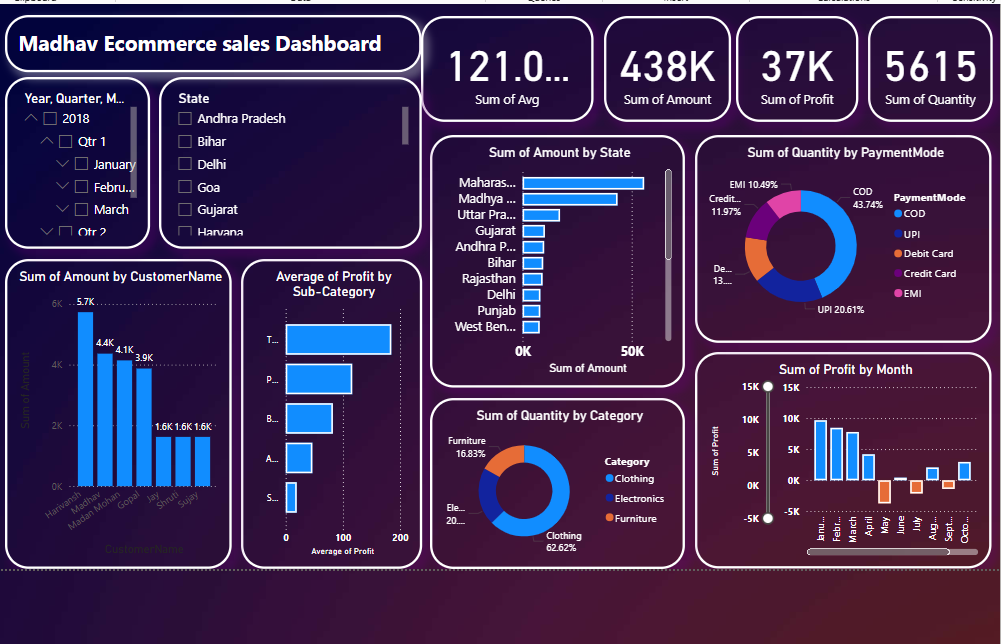

The page's visual inventory and layout, read from the dashboard file:
{"tool":"powerbi","page":{"name":"Page 1","canvas":[1280,720],"ordinal":0},"visuals":[{"type":"textbox","title":"  ","box":[11.4,14.6,531.2,73.1],"z":0},{"type":"clusteredColumnChart","fields":{"Category":["Orders.Order Date.Variation.Date Hierarchy.Month"],"Y":["Details.Profit"]},"box":[891.8,443.5,378.5,276.1],"z":1000},{"type":"clusteredBarChart","fields":{"Category":["Details.Sub-Category"],"Y":["Details.Profit"]},"box":[311.9,324.9,230.7,394.7],"z":2000},{"type":"donutChart","fields":{"Category":["Details.Category"],"Y":["Details.Quantity"]},"box":[553.9,501.9,324.9,217.7],"z":3000},{"type":"donutChart","fields":{"Y":["Details.Quantity"],"Category":["Details.PaymentMode"]},"box":[891.8,167.3,378.5,264.8],"z":4000},{"type":"columnChart","fields":{"Category":["Orders.CustomerName"],"Y":["Details.Amount"]},"box":[11.4,324.9,289.1,394.7],"z":5000},{"type":"card","fields":{"Values":["Details.Amount"]},"box":[774.7,15.3,162.3,134.7],"z":6000},{"type":"card","fields":{"Values":["Details.Quantity"]},"box":[1111.6,15.3,159.2,134.7],"z":7000},{"type":"card","fields":{"Values":["Details.Profit"]},"box":[943.2,15.3,156.2,134.7],"z":8000},{"type":"card","fields":{"Values":["Details.Avg"]},"box":[542,15.3,220.5,134.7],"z":9000},{"type":"clusteredBarChart","fields":{"Y":["Details.Amount"],"Category":["Orders.State"]},"box":[553.9,167.3,324.9,321.6],"z":10000},{"type":"slicer","fields":{"Values":["Orders.Order Date.Variation.Date Hierarchy.Year","Orders.Order Date.Variation.Date Hierarchy.Quarter","Orders.Order Date.Variation.Date Hierarchy.Month","Orders.Order Date.Variation.Date Hierarchy.Day"]},"box":[11.4,92.6,185.2,219.3],"z":11000},{"type":"slicer","fields":{"Values":["Orders.State"]},"box":[207.9,92.6,334.6,219.3],"z":12000}]}

Visuals, with their boxes in screenshot pixels (x1, y1, x2, y2):
"  " textbox: [6,16,416,73]
clusteredColumnChart - Orders.Order Date.Variation.Date Hierarchy.Month x Details.Profit: [685,347,977,560]
clusteredBarChart - Details.Sub-Category x Details.Profit: [238,256,416,560]
donutChart - Details.Category x Details.Quantity: [425,392,675,560]
donutChart - Details.Quantity x Details.PaymentMode: [685,134,977,338]
columnChart - Orders.CustomerName x Details.Amount: [6,256,229,560]
card - Details.Amount: [595,17,720,121]
card - Details.Quantity: [855,17,977,121]
card - Details.Profit: [725,17,845,121]
card - Details.Avg: [415,17,585,121]
clusteredBarChart - Details.Amount x Orders.State: [425,134,675,382]
slicer - Orders.Order Date.Variation.Date Hierarchy.Year x Orders.Order Date.Variation.Date Hierarchy.Quarter: [6,77,149,246]
slicer - Orders.State: [158,77,416,246]
